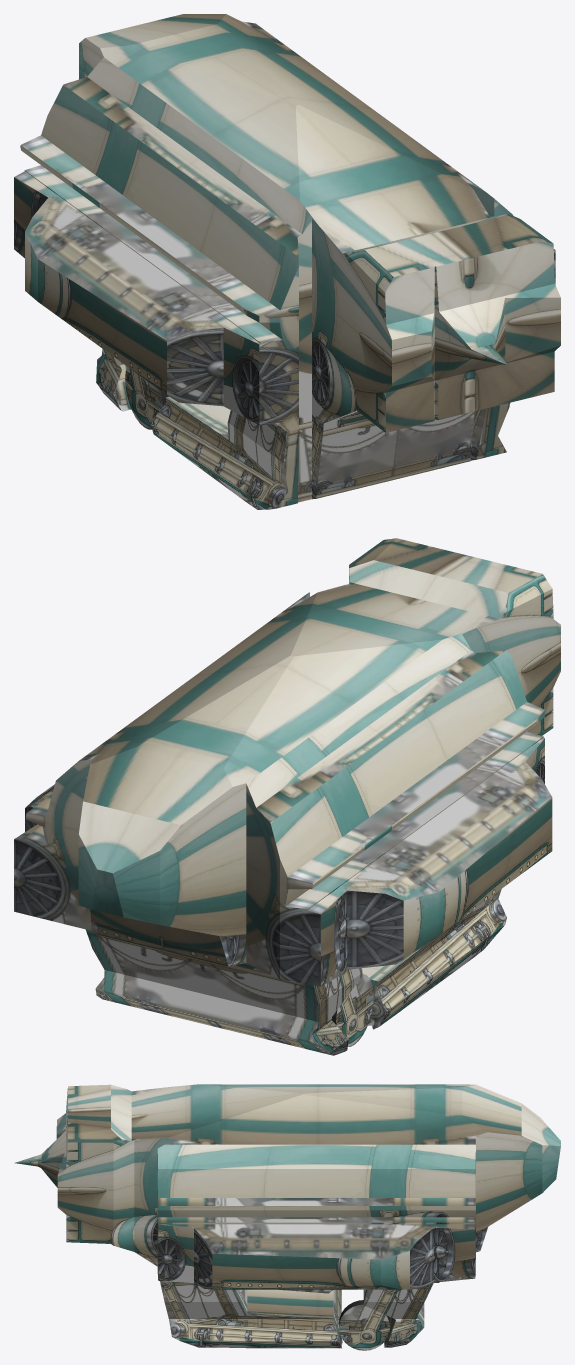
The model's file is cargo_aerostat.glb.
3 views of the same model, one above another, from view 1: azimuth 30°, elevation 25°; view 2: azimuth 150°, elevation 25°; view 3: azimuth 270°, elevation 25° (orthographic). The views are drawn at different scales.
Visible parts, largest first — view 1: cargo_aerostat, wheel_FL; view 2: cargo_aerostat, wheel_FL; view 3: cargo_aerostat, wheel_FR.
Part boxes in pixels (x1=…): cargo_aerostat: x1=14, y1=14, x2=560, y2=509; wheel_FL: x1=125, y1=366, x2=168, y2=429; cargo_aerostat: x1=14, y1=538, x2=560, y2=1055; wheel_FL: x1=332, y1=973, x2=373, y2=1046; cargo_aerostat: x1=15, y1=1084, x2=560, y2=1348; wheel_FR: x1=339, y1=1300, x2=389, y2=1350.
Bounding box in the file's own units: 11.37 × 8.9 × 19.81.
Materials: 3 (1 with a texture image).
